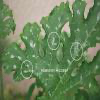Squash Powdery mildew leaf: (4, 0, 100, 95)
